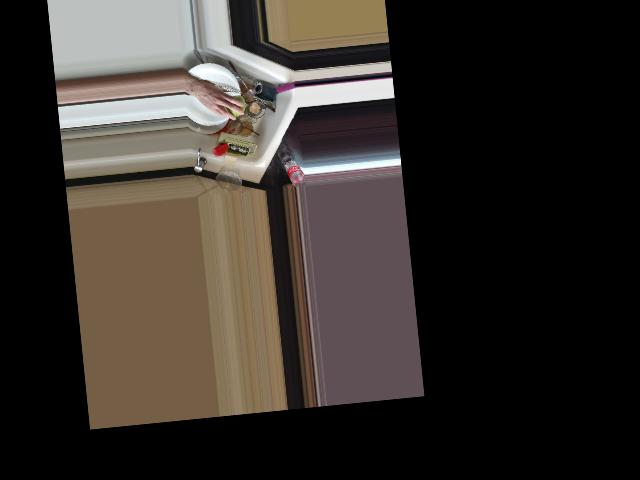apple: (222, 93, 246, 117)
